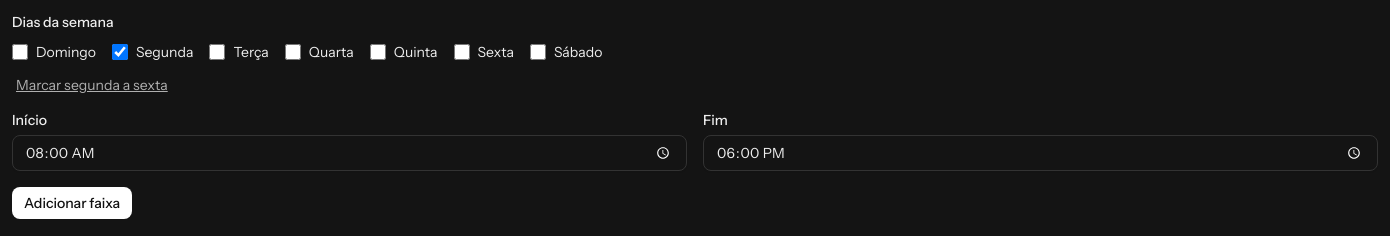
Test: faixa com erro mantém o que foi digitado › nova faixa volta ao padrão depois de adicionar com sucesso
Replace the text in the time field labelled "Início" with "12:00". click: (350, 153)
box: [12, 135, 687, 171]
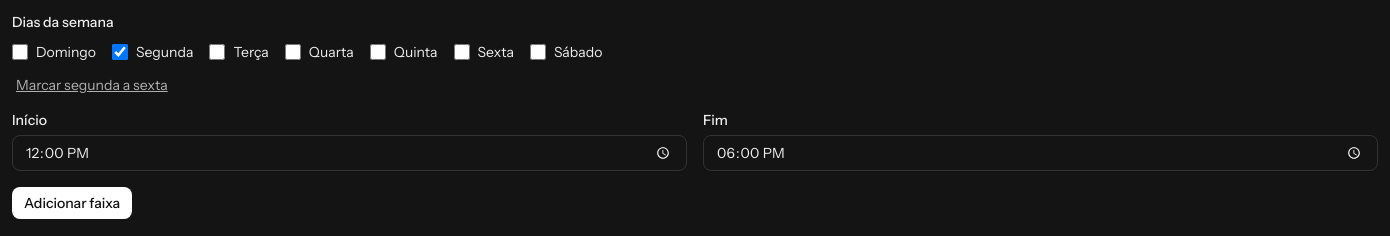
Click the button "Adicionar faixa". click: (72, 203)
box: [12, 187, 132, 219]
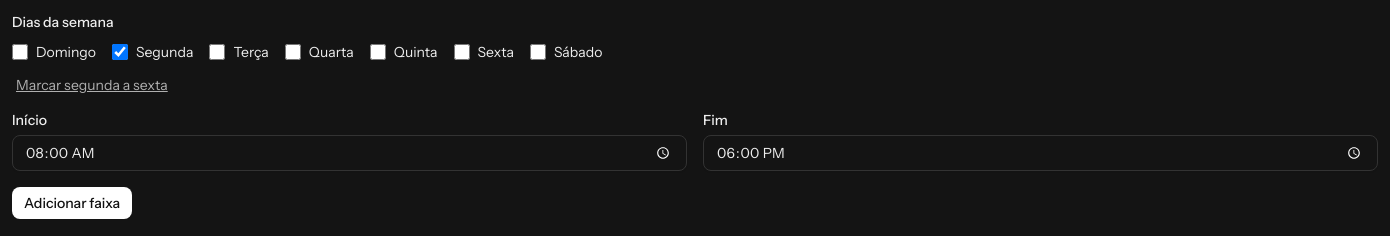
Expected: the time field labelled "Início" holds "08:00", [12, 135, 687, 171]
